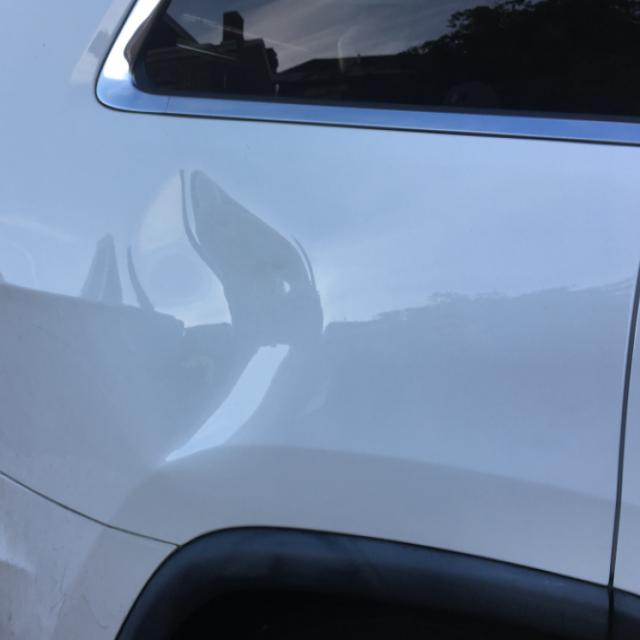dents: (80, 172, 336, 470)
